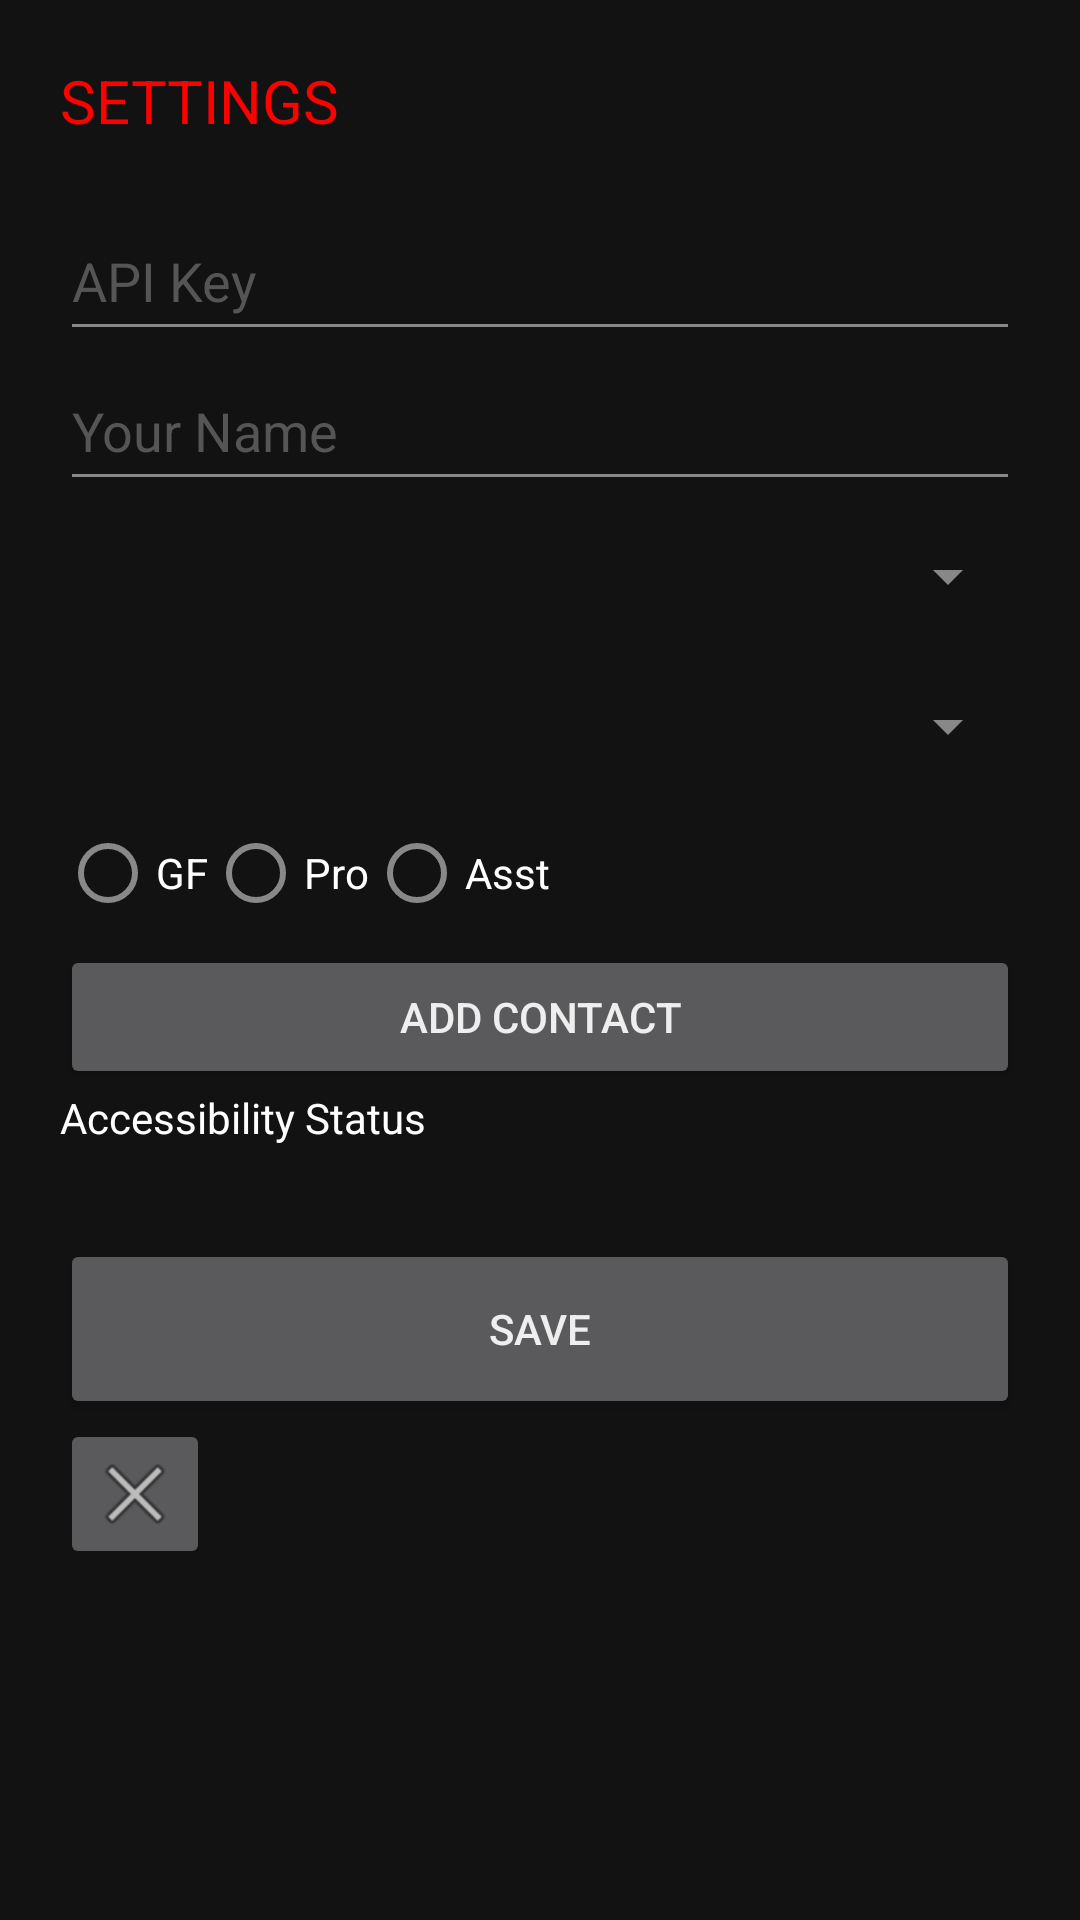

Screen size 1080×1920. Icon name, then its box in pixels as (x1, y1, x2, y2):
close clear cancel: (72, 1437, 198, 1551)
